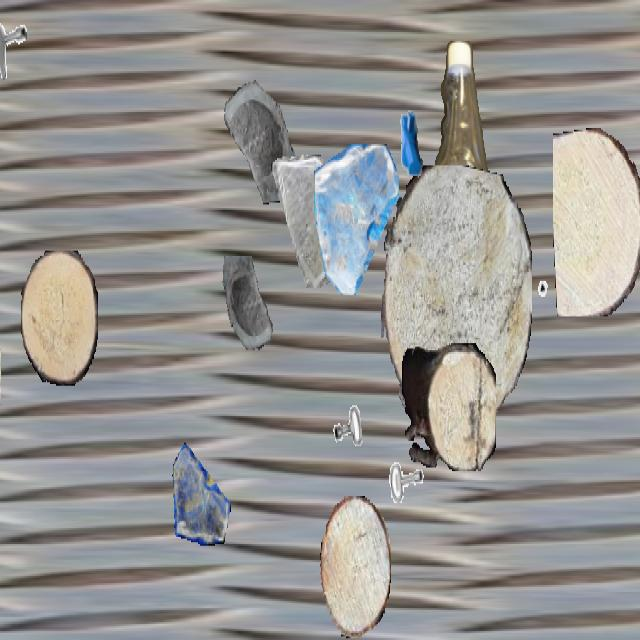glass: (314, 144, 398, 293), (214, 57, 296, 203), (270, 155, 344, 286), (219, 256, 281, 366), (172, 441, 230, 544)
metal: (319, 347, 379, 453), (382, 91, 438, 190), (386, 453, 432, 535), (534, 278, 574, 348), (0, 4, 27, 78)
plastic: (414, 41, 496, 393)
wood: (381, 166, 531, 436), (553, 128, 640, 316), (402, 343, 496, 471), (21, 250, 97, 386), (320, 496, 390, 638), (0, 336, 1, 450)
